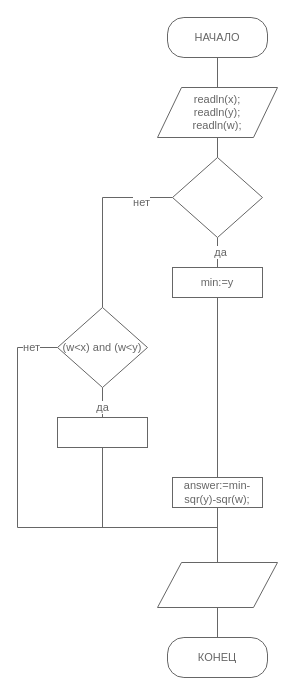
Some shapes in this 295 by 695 pixel diagram are drawn without their labels. Each missing label, with the centre of its shape:
"(y<x) and (y<w)" belongs at (x=217, y=197).
"min:=w;" belongs at (x=102, y=432).
"writeln(answer);" belongs at (x=217, y=585).
